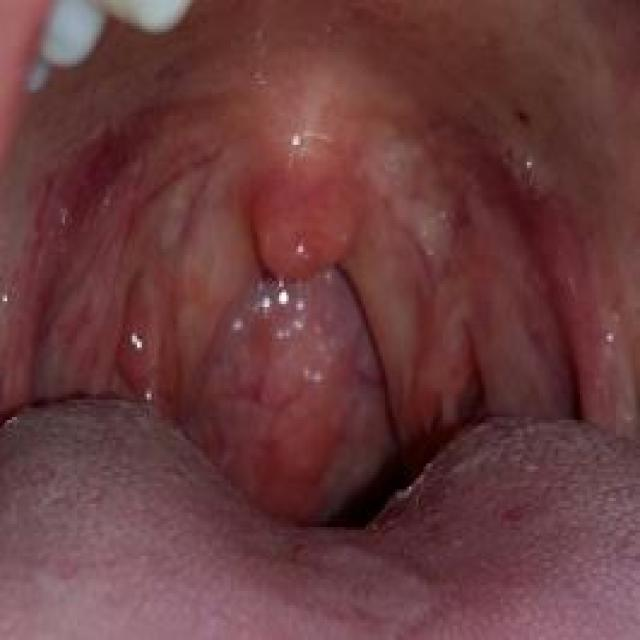Non Pharyngitis: (341, 180, 593, 448), (96, 143, 280, 381)
